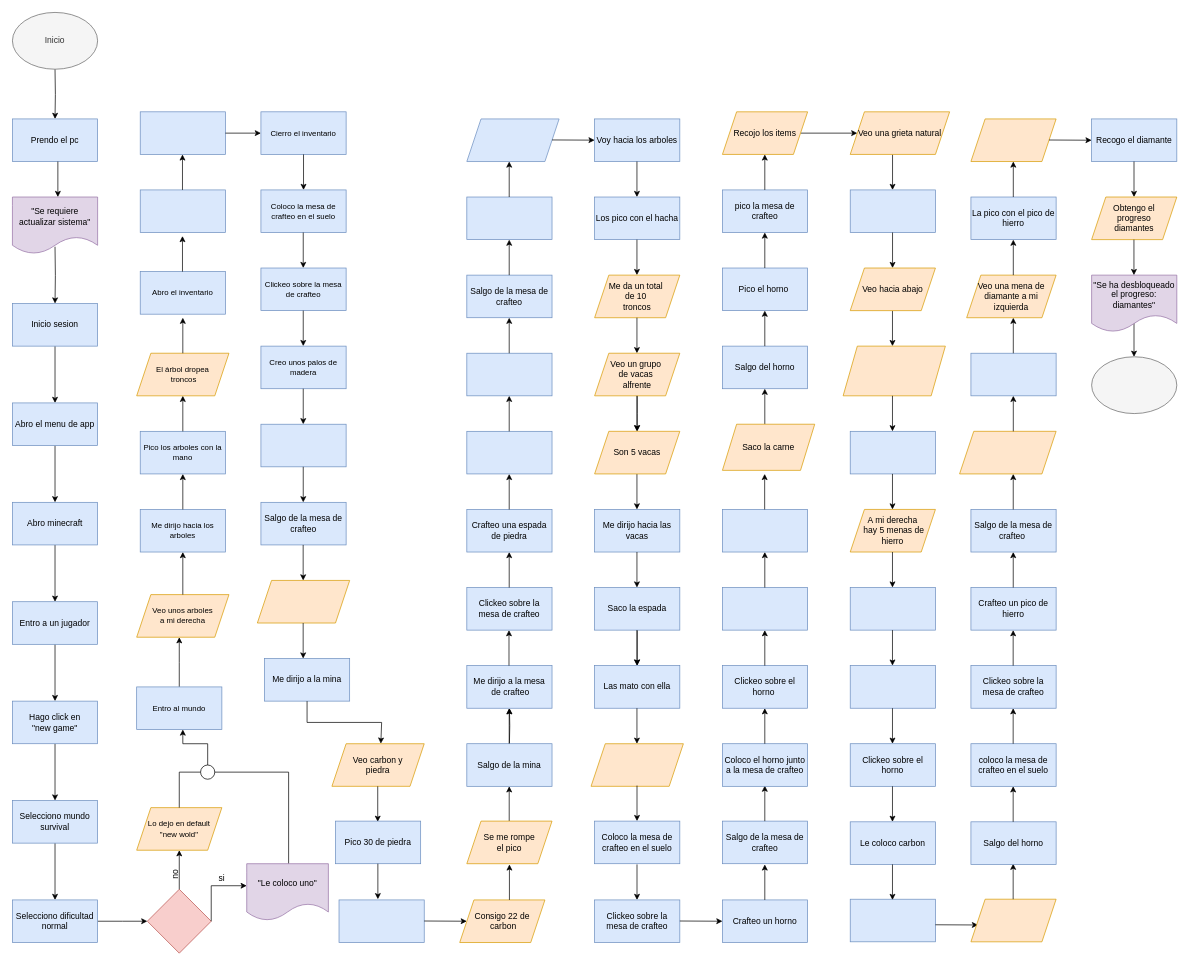
Image size: 1189x966. Some labels were removed from this diagram. Each missing label, with the centre of its shape:
Coloco el horno en el suelo: the point at 892,686
Crafteo madera con los troncos: the point at 182,211
Crafteo un pico de piedra: the point at 509,452
Crafteo una hacha de piedra: the point at 509,374
Creo un pico de madera: the point at 303,445
Creo una mesa de crafteo: the point at 182,132
Dropea un diamante: the point at 1013,140
Dropean un total de 8 de carne y 3 de cuero: the point at 636,764
FIn: the point at 1134,385
Hacia mi derecha es mas profunda la mina: the point at 1007,452
Introdusco el carbon: the point at 765,608
Introdusco la carne: the point at 765,530
Le coloco nombre?: the point at 179,921
Le pongo las menas de hierro: the point at 892,920
Me dirijo a la orilla de la grieta: the point at 892,211
Pico 15 menas de carbon: the point at 381,921
Pico la mesa de crafteo con el hacha: the point at 509,218
Pico las menas de hierro: the point at 892,608
Recogo la mesa de crafteo: the point at 512,140
Retiro el hierro cocinado: the point at 1013,920
Salto a una cascada de agua: the point at 892,452
Veo cascadas de lava y agua,veo hierro y redstone: the point at 893,370
Veo una mina natural a mi derecha: the point at 303,601
Voy hacia la derecha: the point at 1013,374
